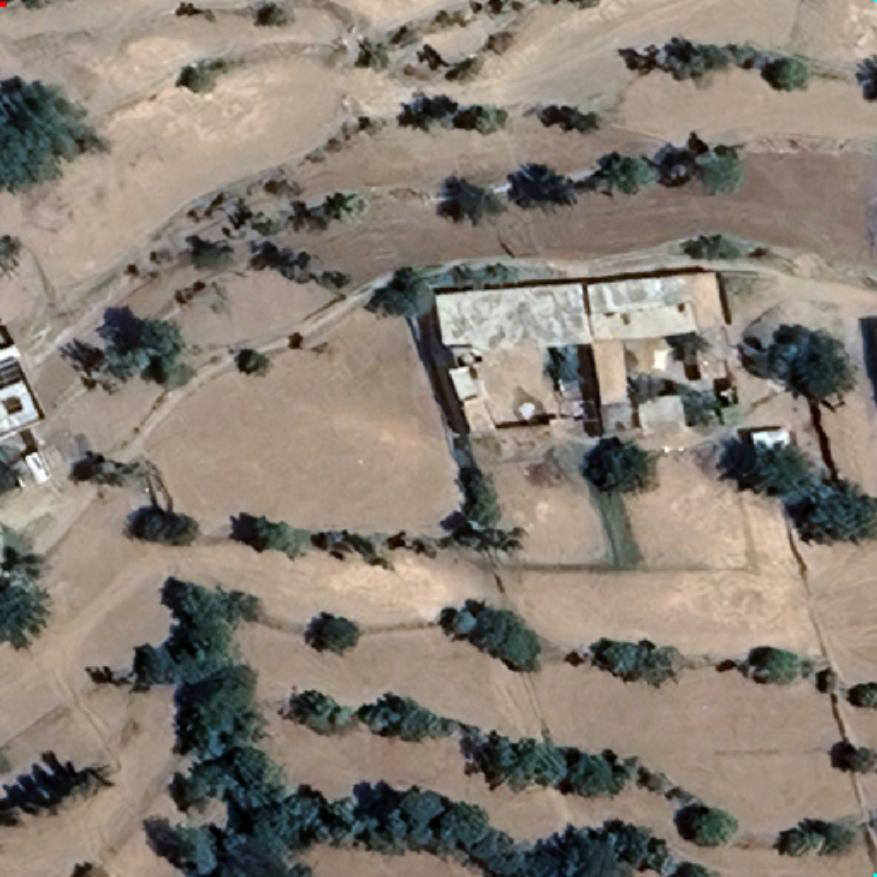Solarpanel: (1, 355, 22, 390), (1, 394, 27, 416)
